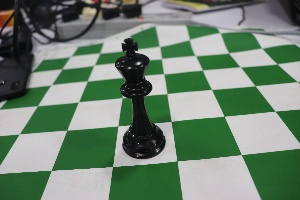black_king: (101, 28, 171, 163)
